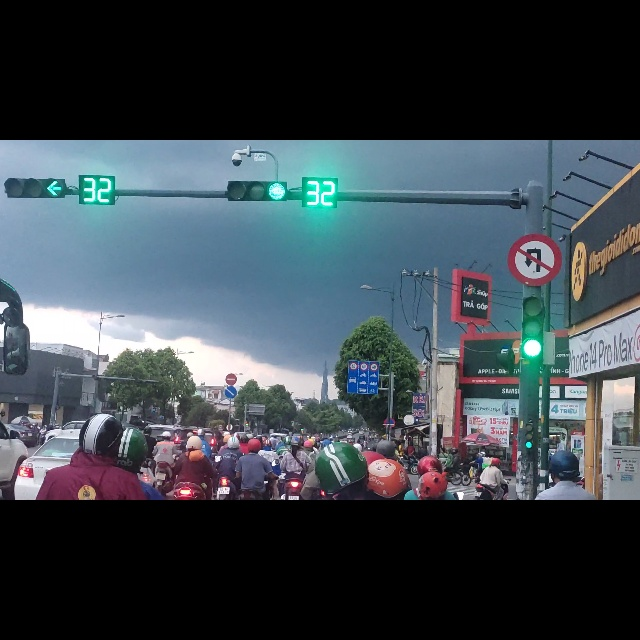bien_hieu_lenh: (507, 165, 563, 259), (347, 391, 379, 453), (224, 437, 237, 460), (225, 414, 237, 436)
